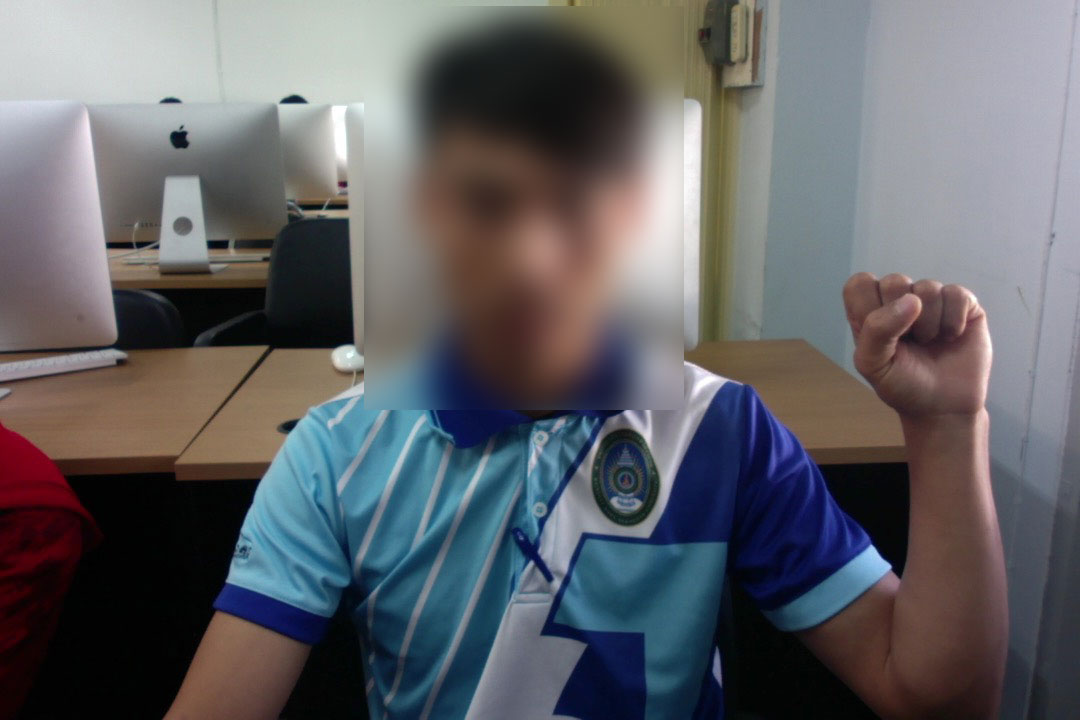sor: (835, 267, 998, 445)
